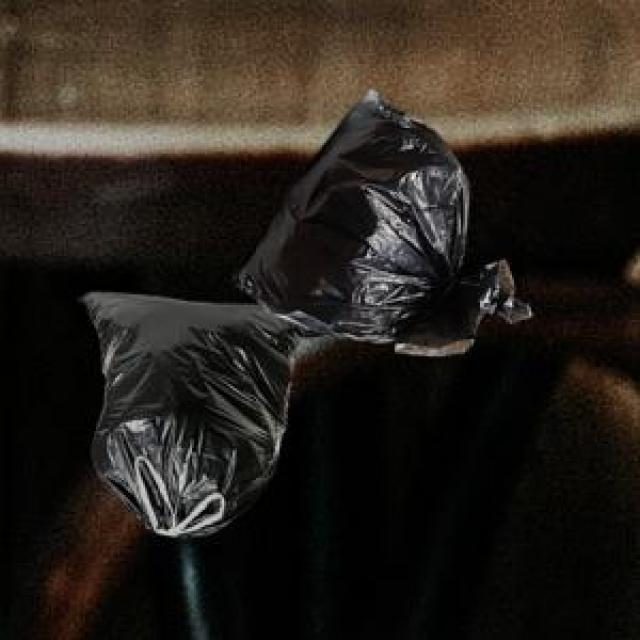waste: (236, 96, 524, 348), (87, 277, 286, 559)
